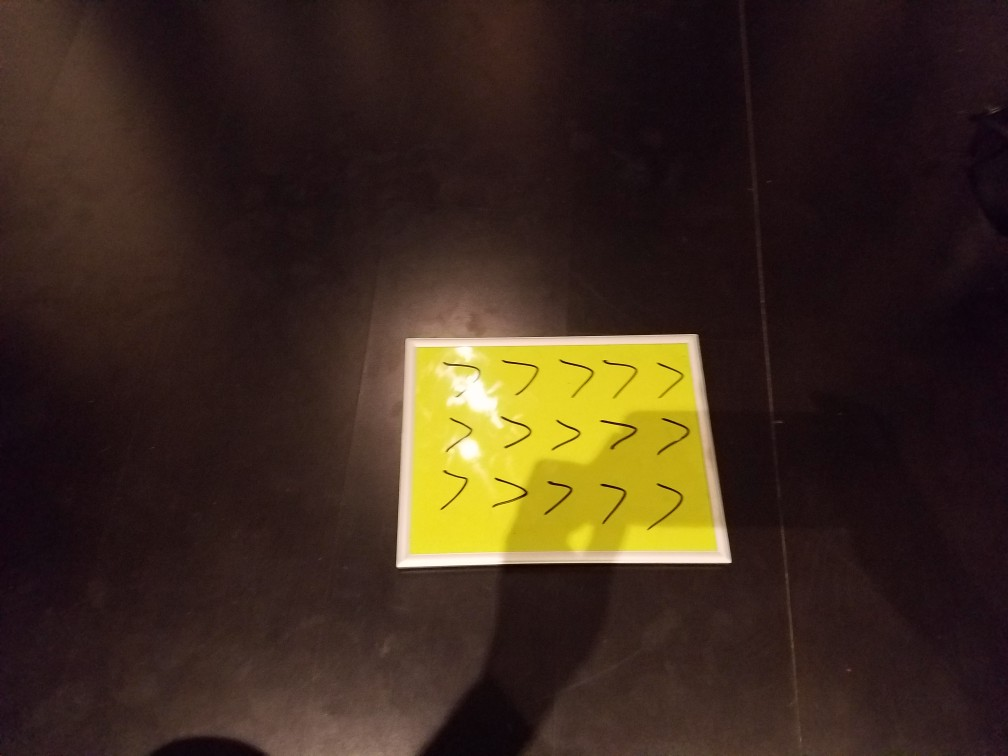>: (640, 470, 695, 540), (434, 341, 485, 407), (593, 470, 640, 530), (491, 406, 538, 462), (486, 463, 534, 516), (499, 346, 542, 404), (432, 459, 471, 521), (540, 470, 582, 526), (605, 350, 644, 405), (559, 346, 595, 405), (432, 413, 480, 453), (599, 412, 642, 454), (653, 353, 687, 406), (550, 413, 588, 458), (654, 412, 691, 458)
